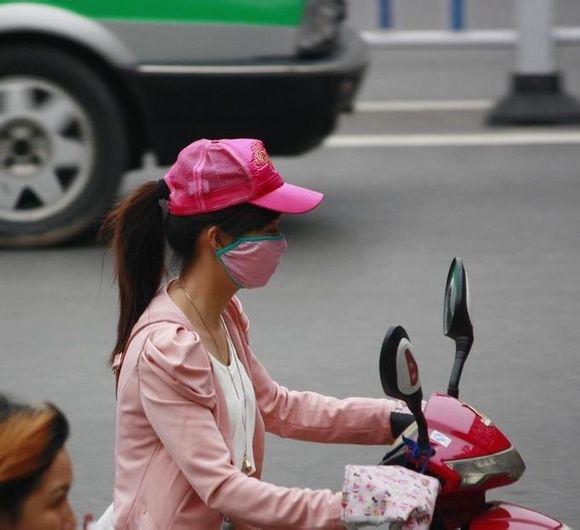OK: (212, 202, 289, 291)
